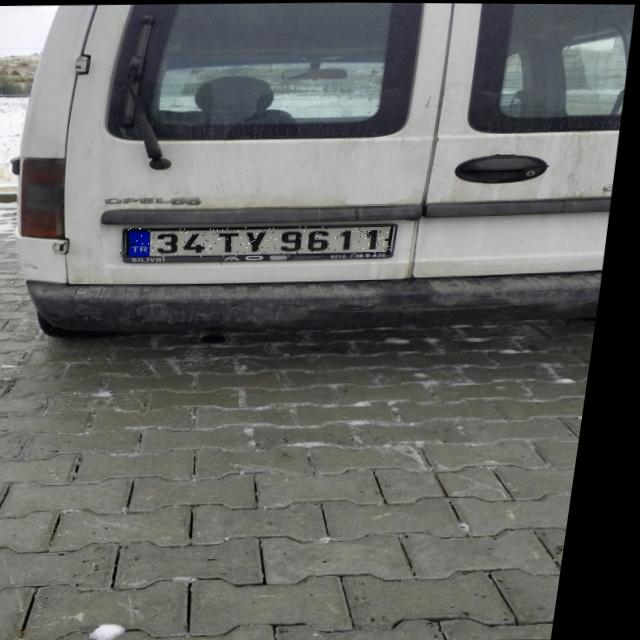license_plate: (126, 223, 400, 258)
